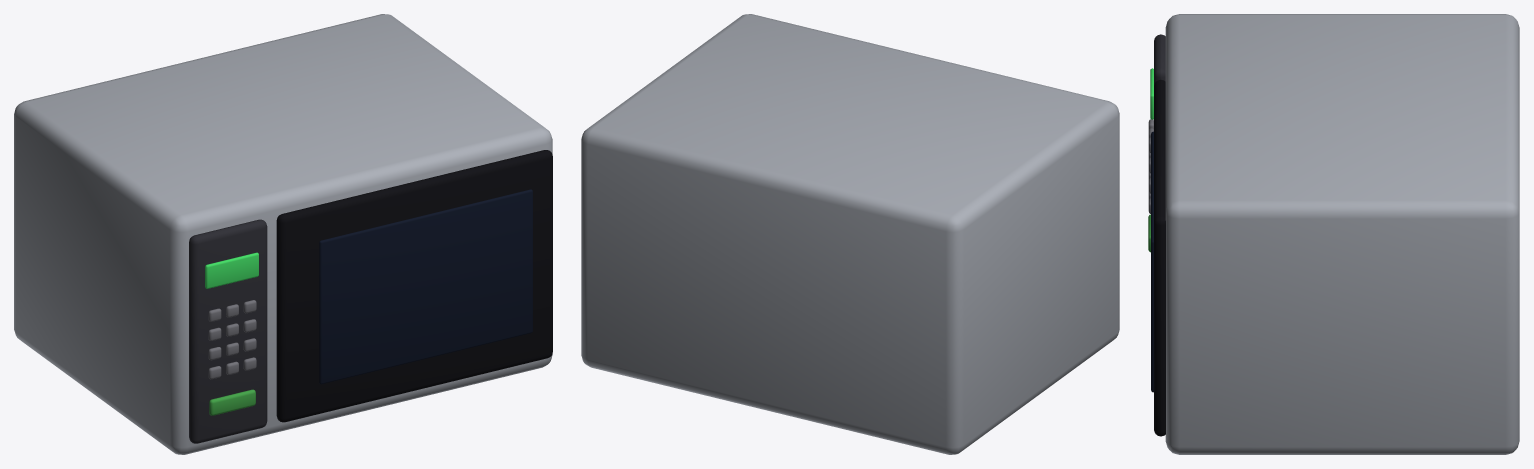
The model's file is microwave.glb.
3 views of the same model, side by side, from view 1: azimuth 30°, elevation 25°; view 2: azimuth 150°, elevation 25°; view 3: azimuth 270°, elevation 25° (orthographic). The views are drawn at different scales.
Visible parts, largest first — view 1: microwave; view 2: microwave; view 3: microwave.
Part boxes in pixels (x1,y1,x2,y2): microwave: [14, 14, 552, 454]; microwave: [581, 14, 1119, 454]; microwave: [1148, 14, 1519, 454].
Bounding box in the file's own units: 0.5 × 0.309 × 0.3985.
